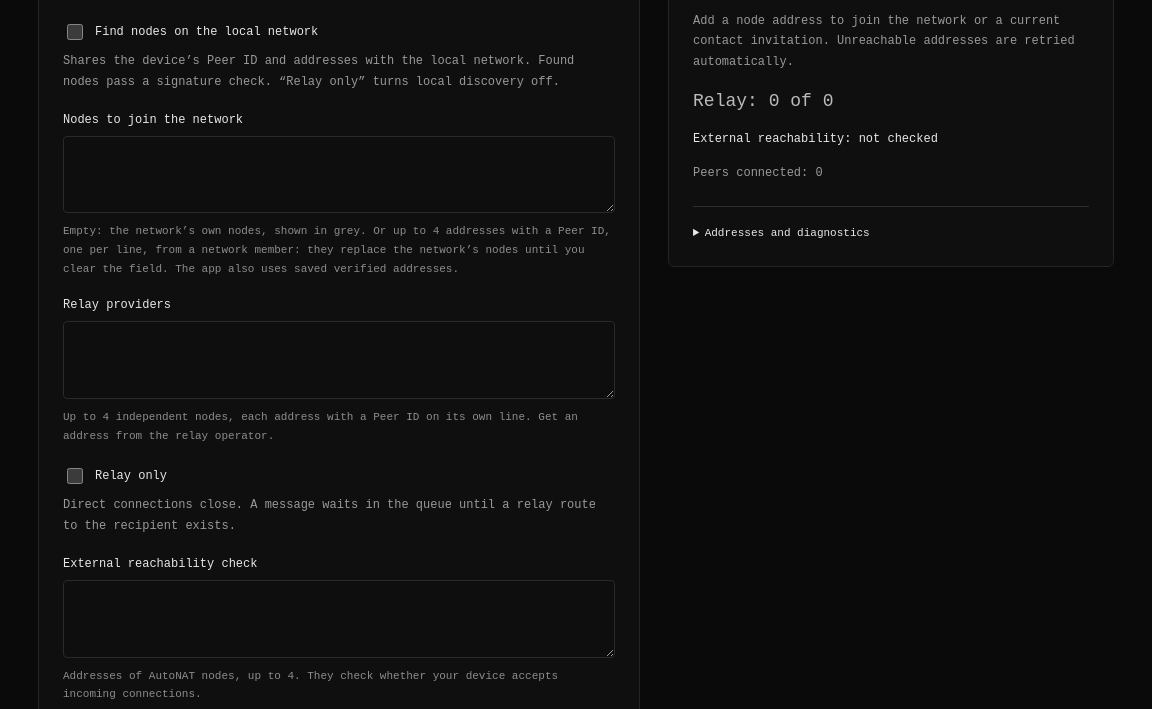
network preferences for the owner › loads real settings, applies only an explicit save, and reports pending routes honestly
(page scrolled)
expect the text "External reachability: not checked" is shown: met, box top-left (693, 132), bottom-right (938, 146)
Type "/ip4/203.0.113.20/tcp/4001/p2p/12D3KooWJm4jMSpfp8p5bVfpqzW2TjzWEdY9xw8rGzBz5Xq6f6Lo" into the text box labelled "Relay providers" at (339, 360), box top-left (63, 321), bottom-right (615, 399)
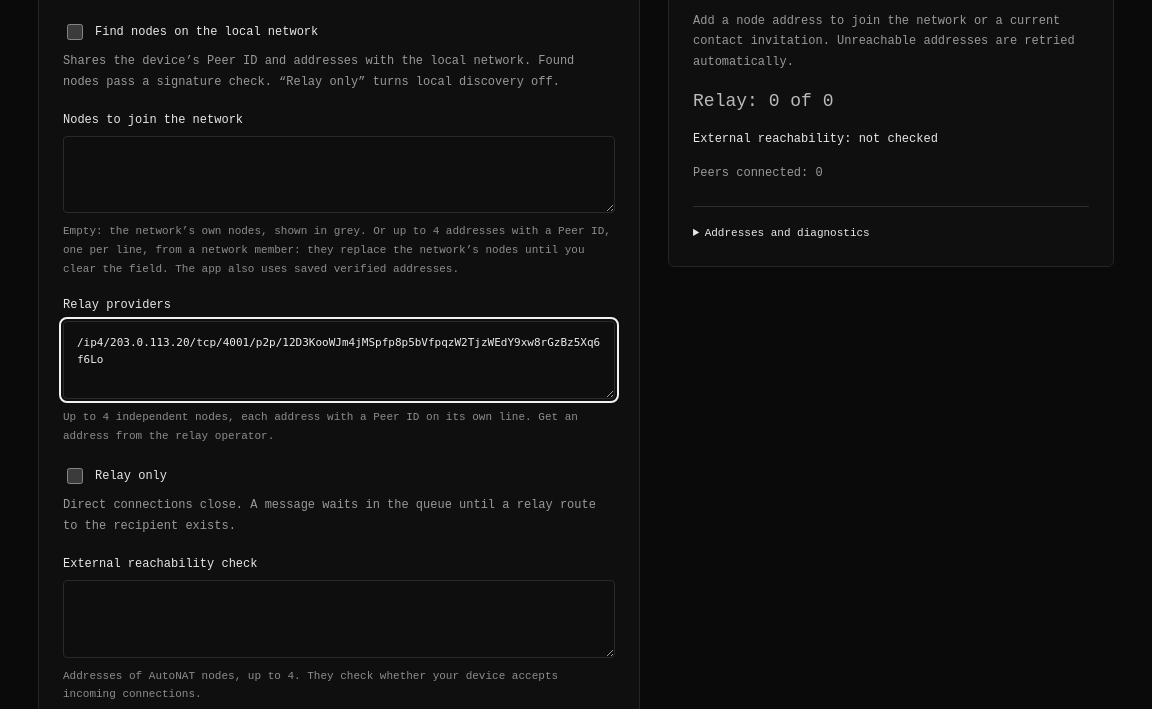
Click the checkbox labelled "Relay only" at (75, 476), box top-left (67, 468), bottom-right (83, 484)
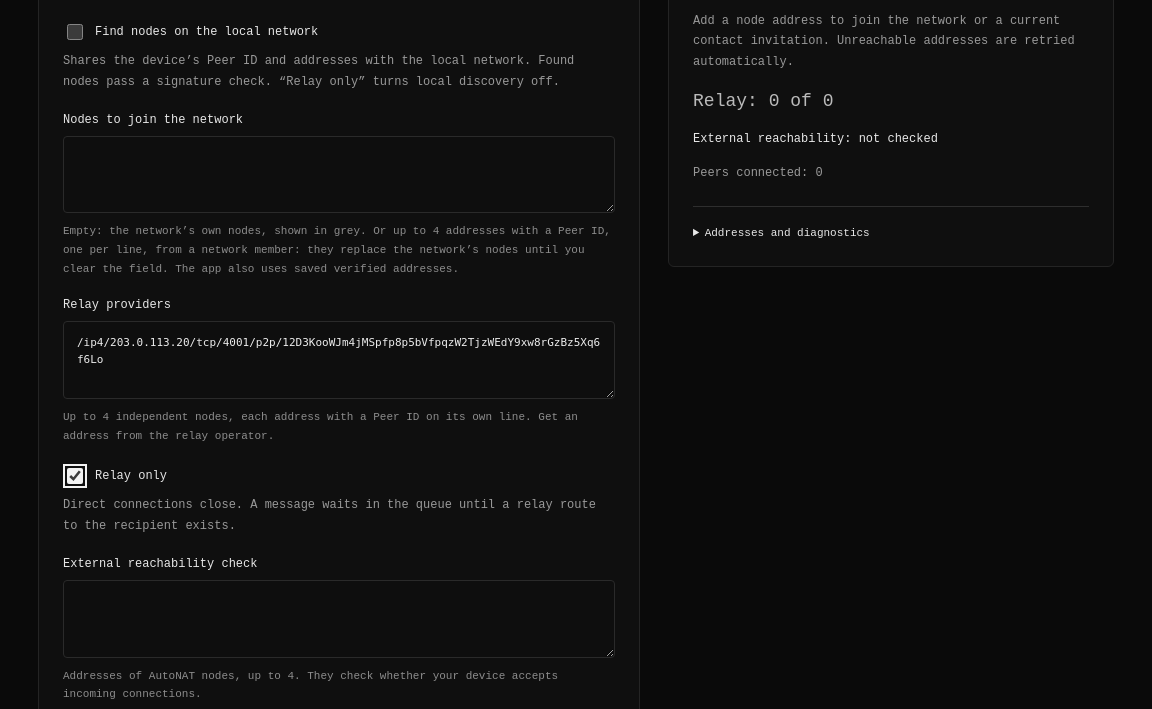
Type "/ip4/203.0.113.30/udp/4001/quic-v1/p2p/12D3KooWNWXCuxZww8PKPi3QKNtSByLMyoaQZuWZzkpyWT1LXomb" into the text box labelled "External reachability check" at (339, 619), box top-left (63, 580), bottom-right (615, 658)
(page scrolled)
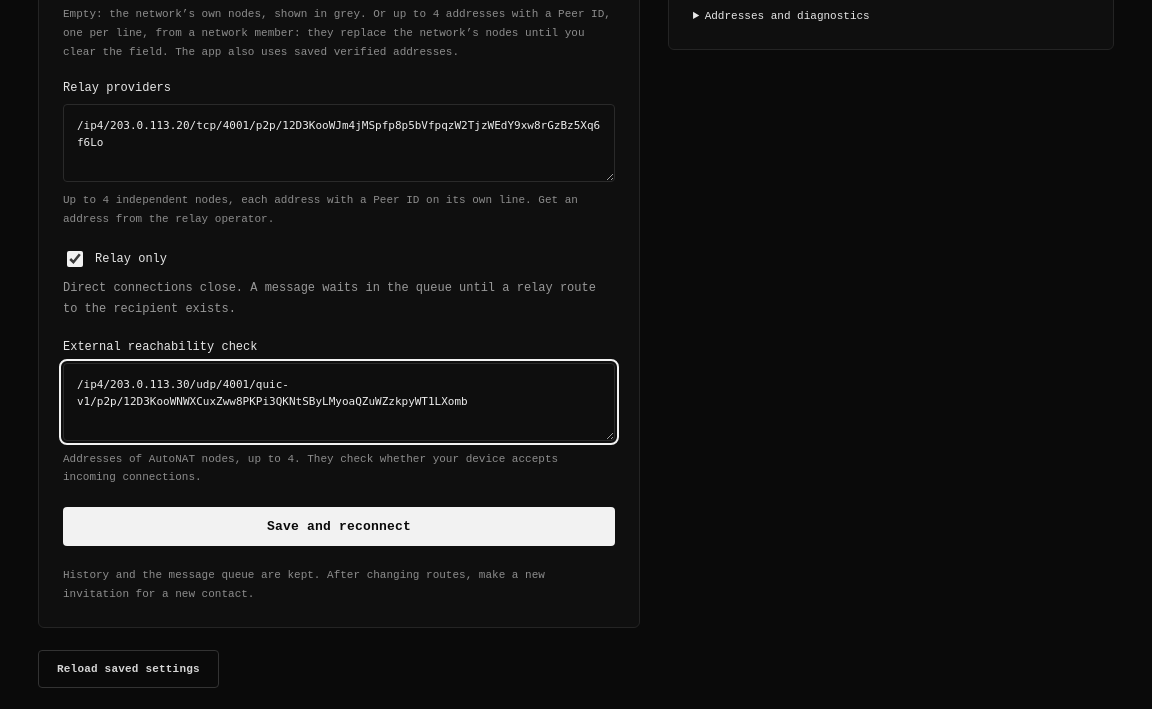
Click the button "Save and reconnect" at (339, 527), box top-left (63, 507), bottom-right (615, 546)
(page scrolled)
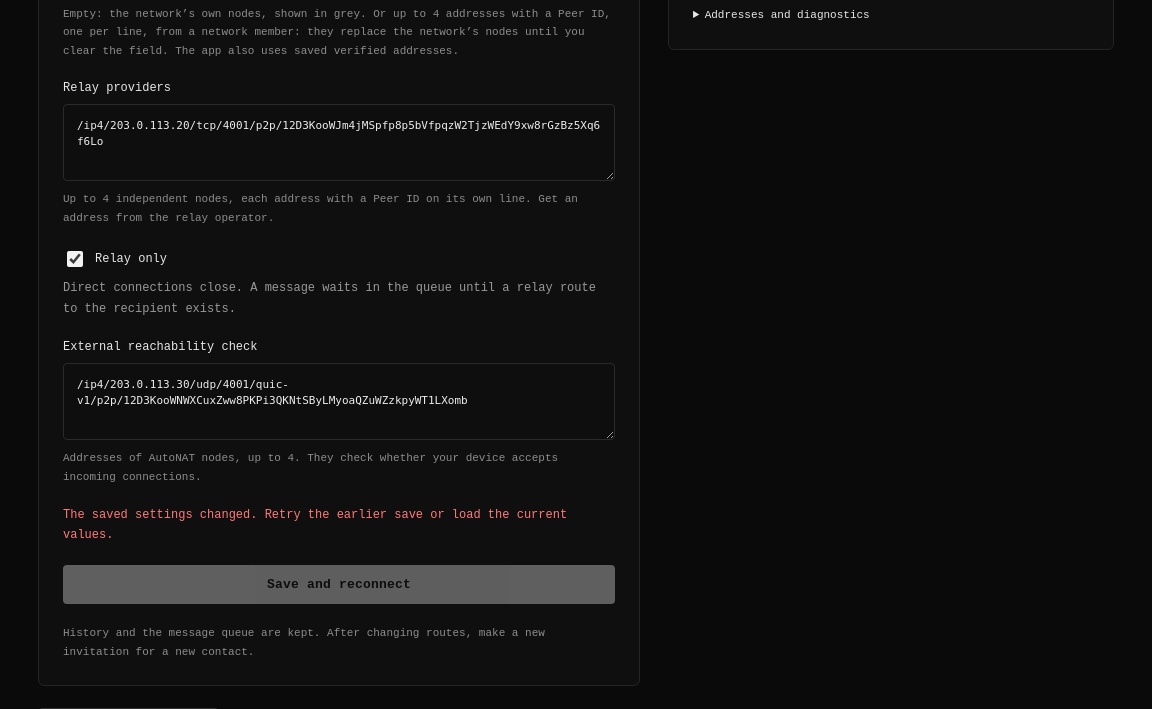
expect the button "Save and reconnect" is disabled: met, box top-left (63, 565), bottom-right (615, 604)
